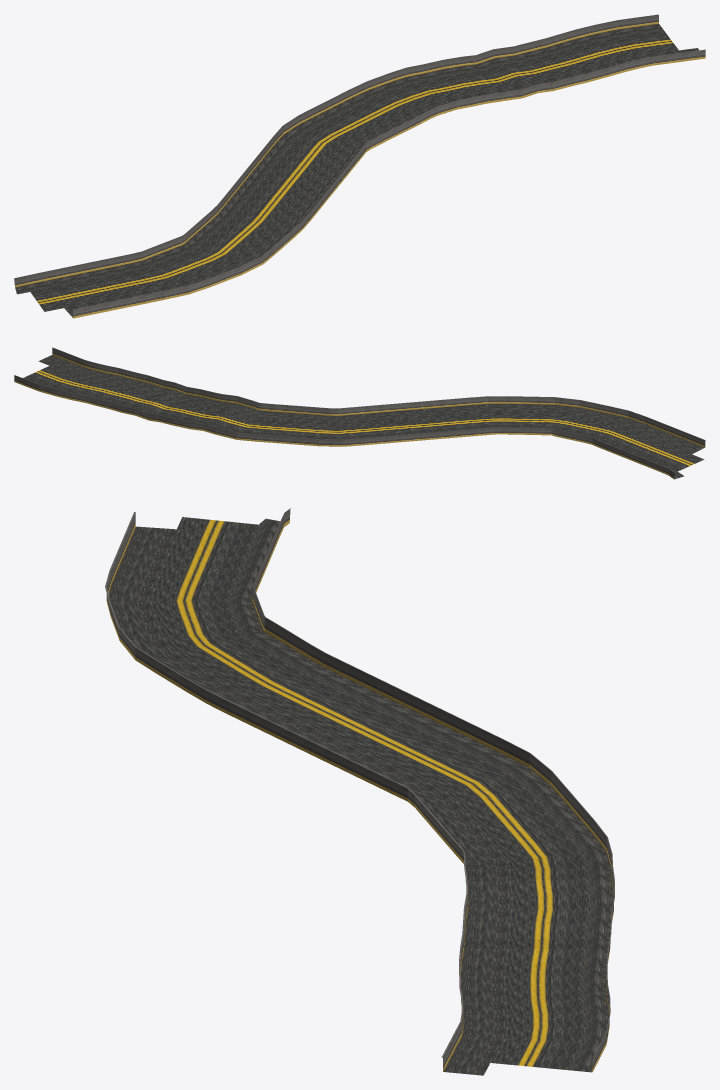
The model's file is road_block_02.obj.
3 renders of one model, top to bottom at view 1: azimuth 30°, elevation 25°; view 2: azimuth 150°, elevation 25°; view 3: azimuth 270°, elevation 25°, orthographic. The views are drawn at different scales.
Parts seen in each view (by area): view 1: Road_display.002_Cube.006; view 2: Road_display.002_Cube.006; view 3: Road_display.002_Cube.006.
Boxes of the visible parts, x1,y1,x2,y2 form: Road_display.002_Cube.006: (14, 14, 705, 318); Road_display.002_Cube.006: (14, 347, 705, 479); Road_display.002_Cube.006: (105, 508, 614, 1075).
Bounding box in the file's own units: 137 × 4.31 × 50.98.
1 material, 1 textured.
